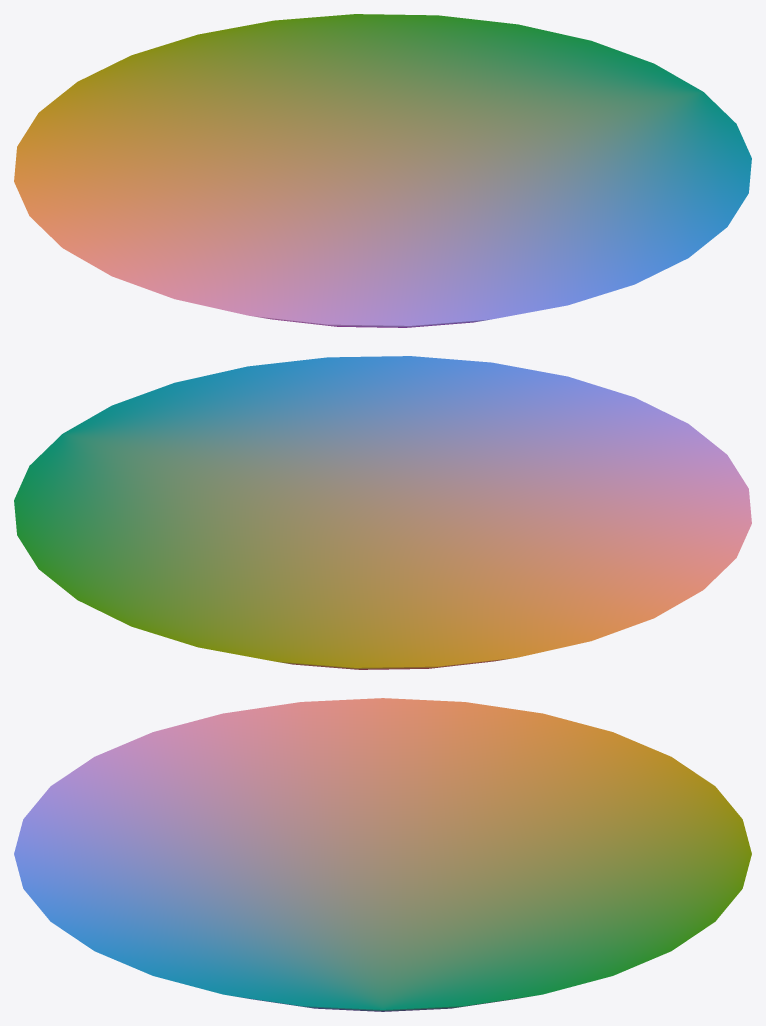
File: milk_saucer.fbx
The picture shows the model from 3 angles, top to bottom: view 1: azimuth 30°, elevation 25°; view 2: azimuth 150°, elevation 25°; view 3: azimuth 270°, elevation 25°; orthographic projection.
Parts seen in each view (by area): view 1: milk_saucer; view 2: milk_saucer; view 3: milk_saucer.
Part boxes in pixels (bbox=[...]): milk_saucer: bbox=[14, 14, 751, 327]; milk_saucer: bbox=[14, 356, 751, 669]; milk_saucer: bbox=[14, 698, 751, 1011].
Bounding box in the file's own units: 0.58 × 0.045 × 0.58.
